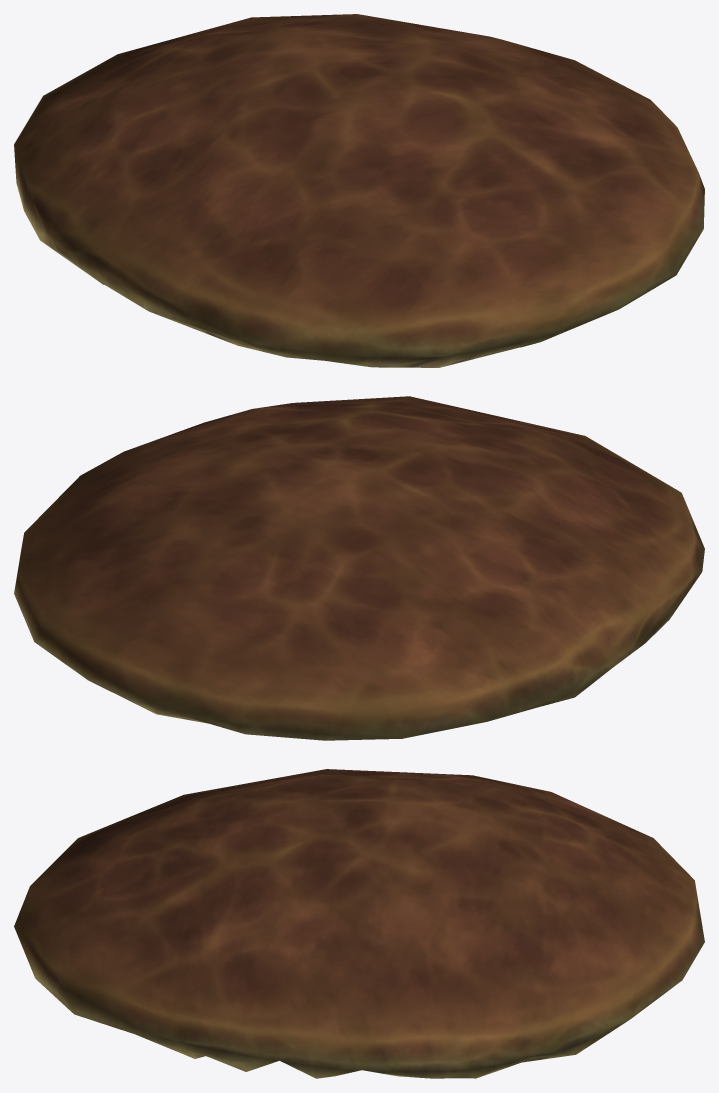
The model's file is SM_Mushroom_head.fbx.
3 renders of one model, top to bottom at view 1: azimuth 30°, elevation 25°; view 2: azimuth 150°, elevation 25°; view 3: azimuth 270°, elevation 25°, orthographic. The views are drawn at different scales.
Visible parts, largest first — view 1: SM_Mushroom_head_LOD0; view 2: SM_Mushroom_head_LOD0; view 3: SM_Mushroom_head_LOD0.
Part boxes in pixels (x1,y1,x2,y2): SM_Mushroom_head_LOD0: (14,14,704,367); SM_Mushroom_head_LOD0: (14,396,704,740); SM_Mushroom_head_LOD0: (14,769,704,1078).
Bounding box in the file's own units: 40.92 × 45.38 × 12.42.
